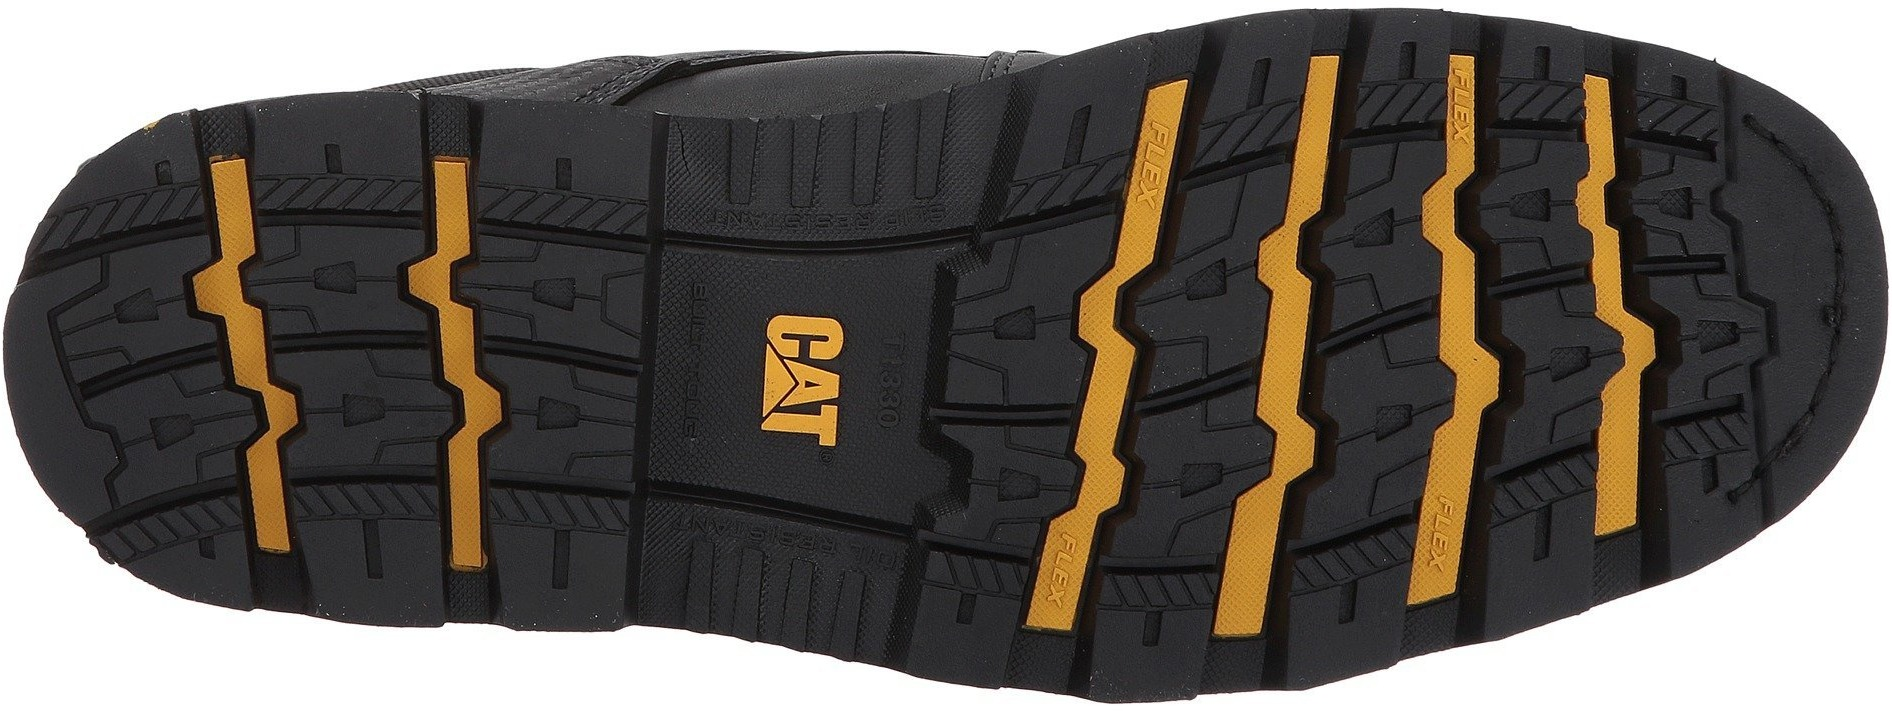chevron: (1217, 158, 1385, 607), (362, 237, 562, 502), (158, 241, 333, 496), (1642, 113, 1786, 414)
exclude: (633, 76, 994, 671)
quad: (1642, 113, 1786, 414), (90, 274, 230, 472), (1642, 158, 1760, 390), (1487, 164, 1601, 398), (282, 245, 411, 451), (494, 232, 605, 459), (287, 478, 448, 604), (478, 477, 636, 598), (1169, 448, 1232, 528), (1184, 237, 1240, 317), (985, 285, 1049, 349)
text: (711, 309, 872, 451), (1427, 483, 1470, 594)
